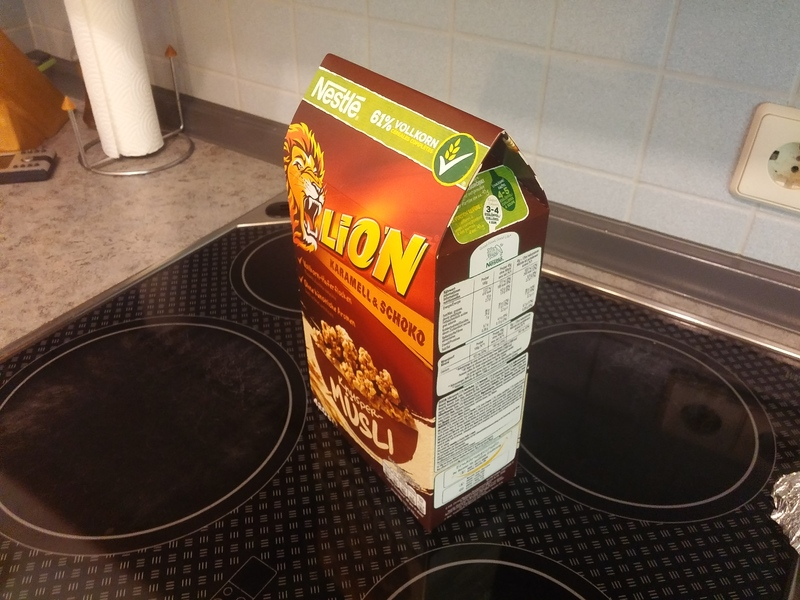cereals: (284, 52, 551, 535)
